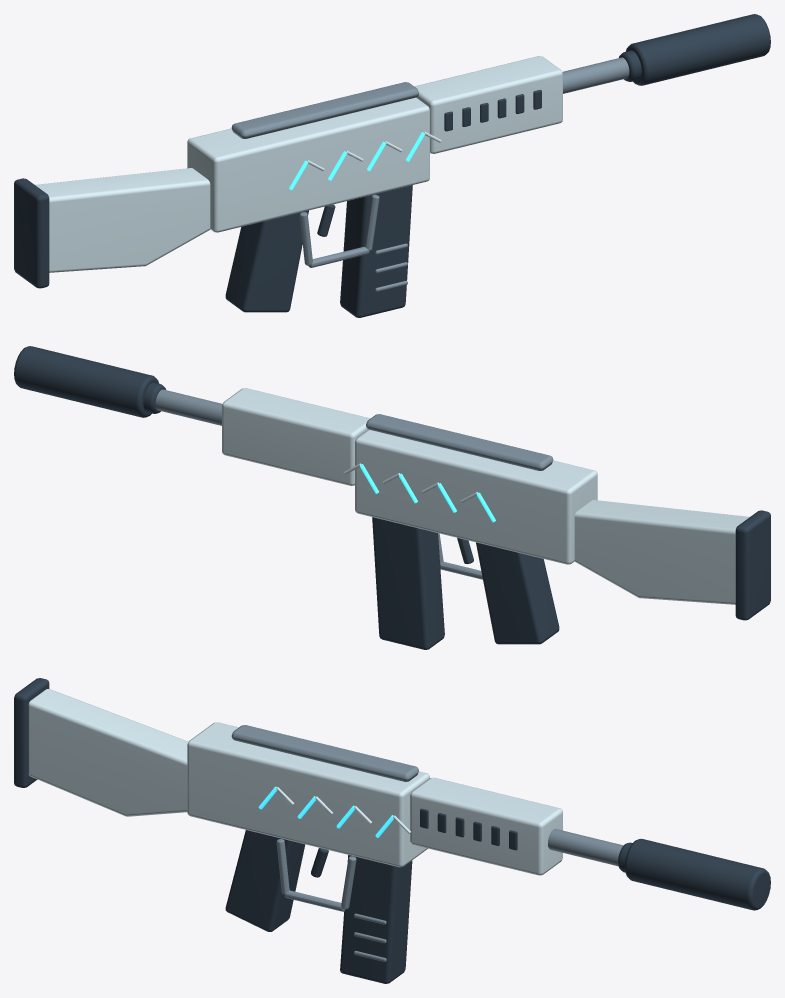
The picture shows the model from 3 angles, top to bottom: view 1: azimuth 30°, elevation 25°; view 2: azimuth 150°, elevation 25°; view 3: azimuth 330°, elevation 25°; orthographic projection.
Parts seen in each view (by area): view 1: Receiver.002, Shoulder stock.003, Handguard.001, Magazine.003, Pistol grip.004, Suppressor, Butt pad.003, Sight rail.001, Barrel.004, Trigger guard.016; view 2: Receiver.002, Shoulder stock.003, Handguard.001, Magazine.003, Pistol grip.004, Suppressor, Butt pad.003, Sight rail.001, Barrel.004; view 3: Receiver.002, Shoulder stock.003, Handguard.001, Magazine.003, Suppressor, Pistol grip.004, Sight rail.001, Butt pad.003, Barrel.004, Trigger guard.016.
Part boxes in pixels (x1,y1,x2,y2): Receiver.002: (187,97,429,232); Shoulder stock.003: (35,168,210,272); Handguard.001: (414,56,562,153); Magazine.003: (340,185,412,317); Pistol grip.004: (225,210,308,312); Suppressor: (625,14,770,85); Butt pad.003: (14,178,49,288); Sight rail.001: (231,82,418,138); Barrel.004: (562,57,629,93); Trigger guard.016: (308,246,369,267); Receiver.002: (355,429,597,564); Shoulder stock.003: (574,500,749,604); Handguard.001: (222,388,370,485); Magazine.003: (372,517,444,649); Pistol grip.004: (476,542,559,644); Suppressor: (14,346,159,417); Butt pad.003: (735,510,770,620); Sight rail.001: (366,414,553,470); Barrel.004: (155,389,222,425); Receiver.002: (187,722,429,867); Shoulder stock.003: (28,689,188,816); Handguard.001: (410,777,562,875); Magazine.003: (340,855,412,983); Suppressor: (625,838,770,910); Pistol grip.004: (225,830,305,931); Sight rail.001: (231,725,418,781); Butt pad.003: (14,678,49,787); Barrel.004: (548,828,623,866); Trigger guard.016: (284,890,345,911).
Size of the model in its own units: 6.62 by 1.83 by 0.5038.
